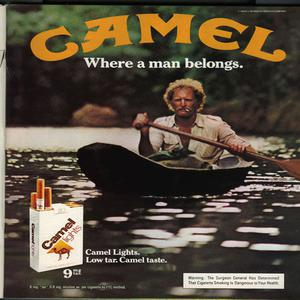cigarette: (185, 107, 192, 117)
